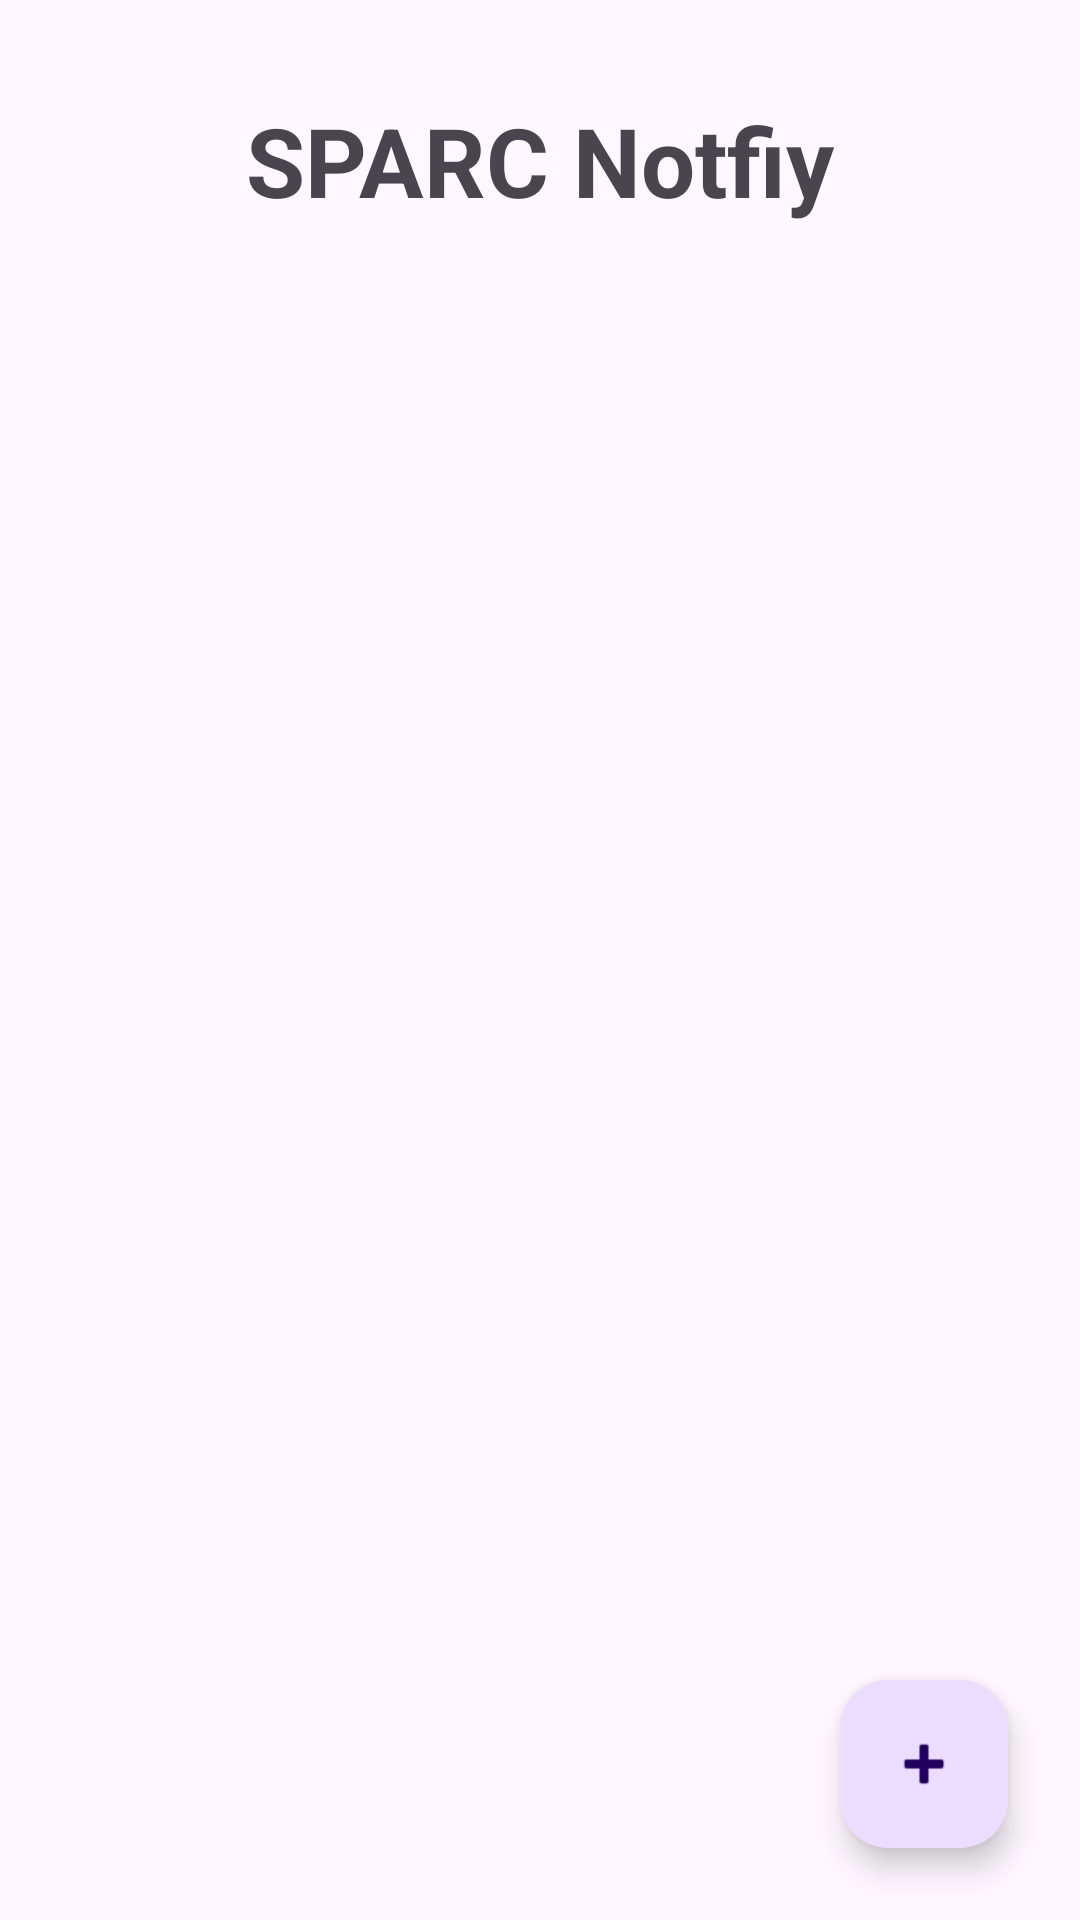

Screen size 1080×1920. Icon name, then its center in pixels as point (x, y):
Add UserID: point (924, 1764)
